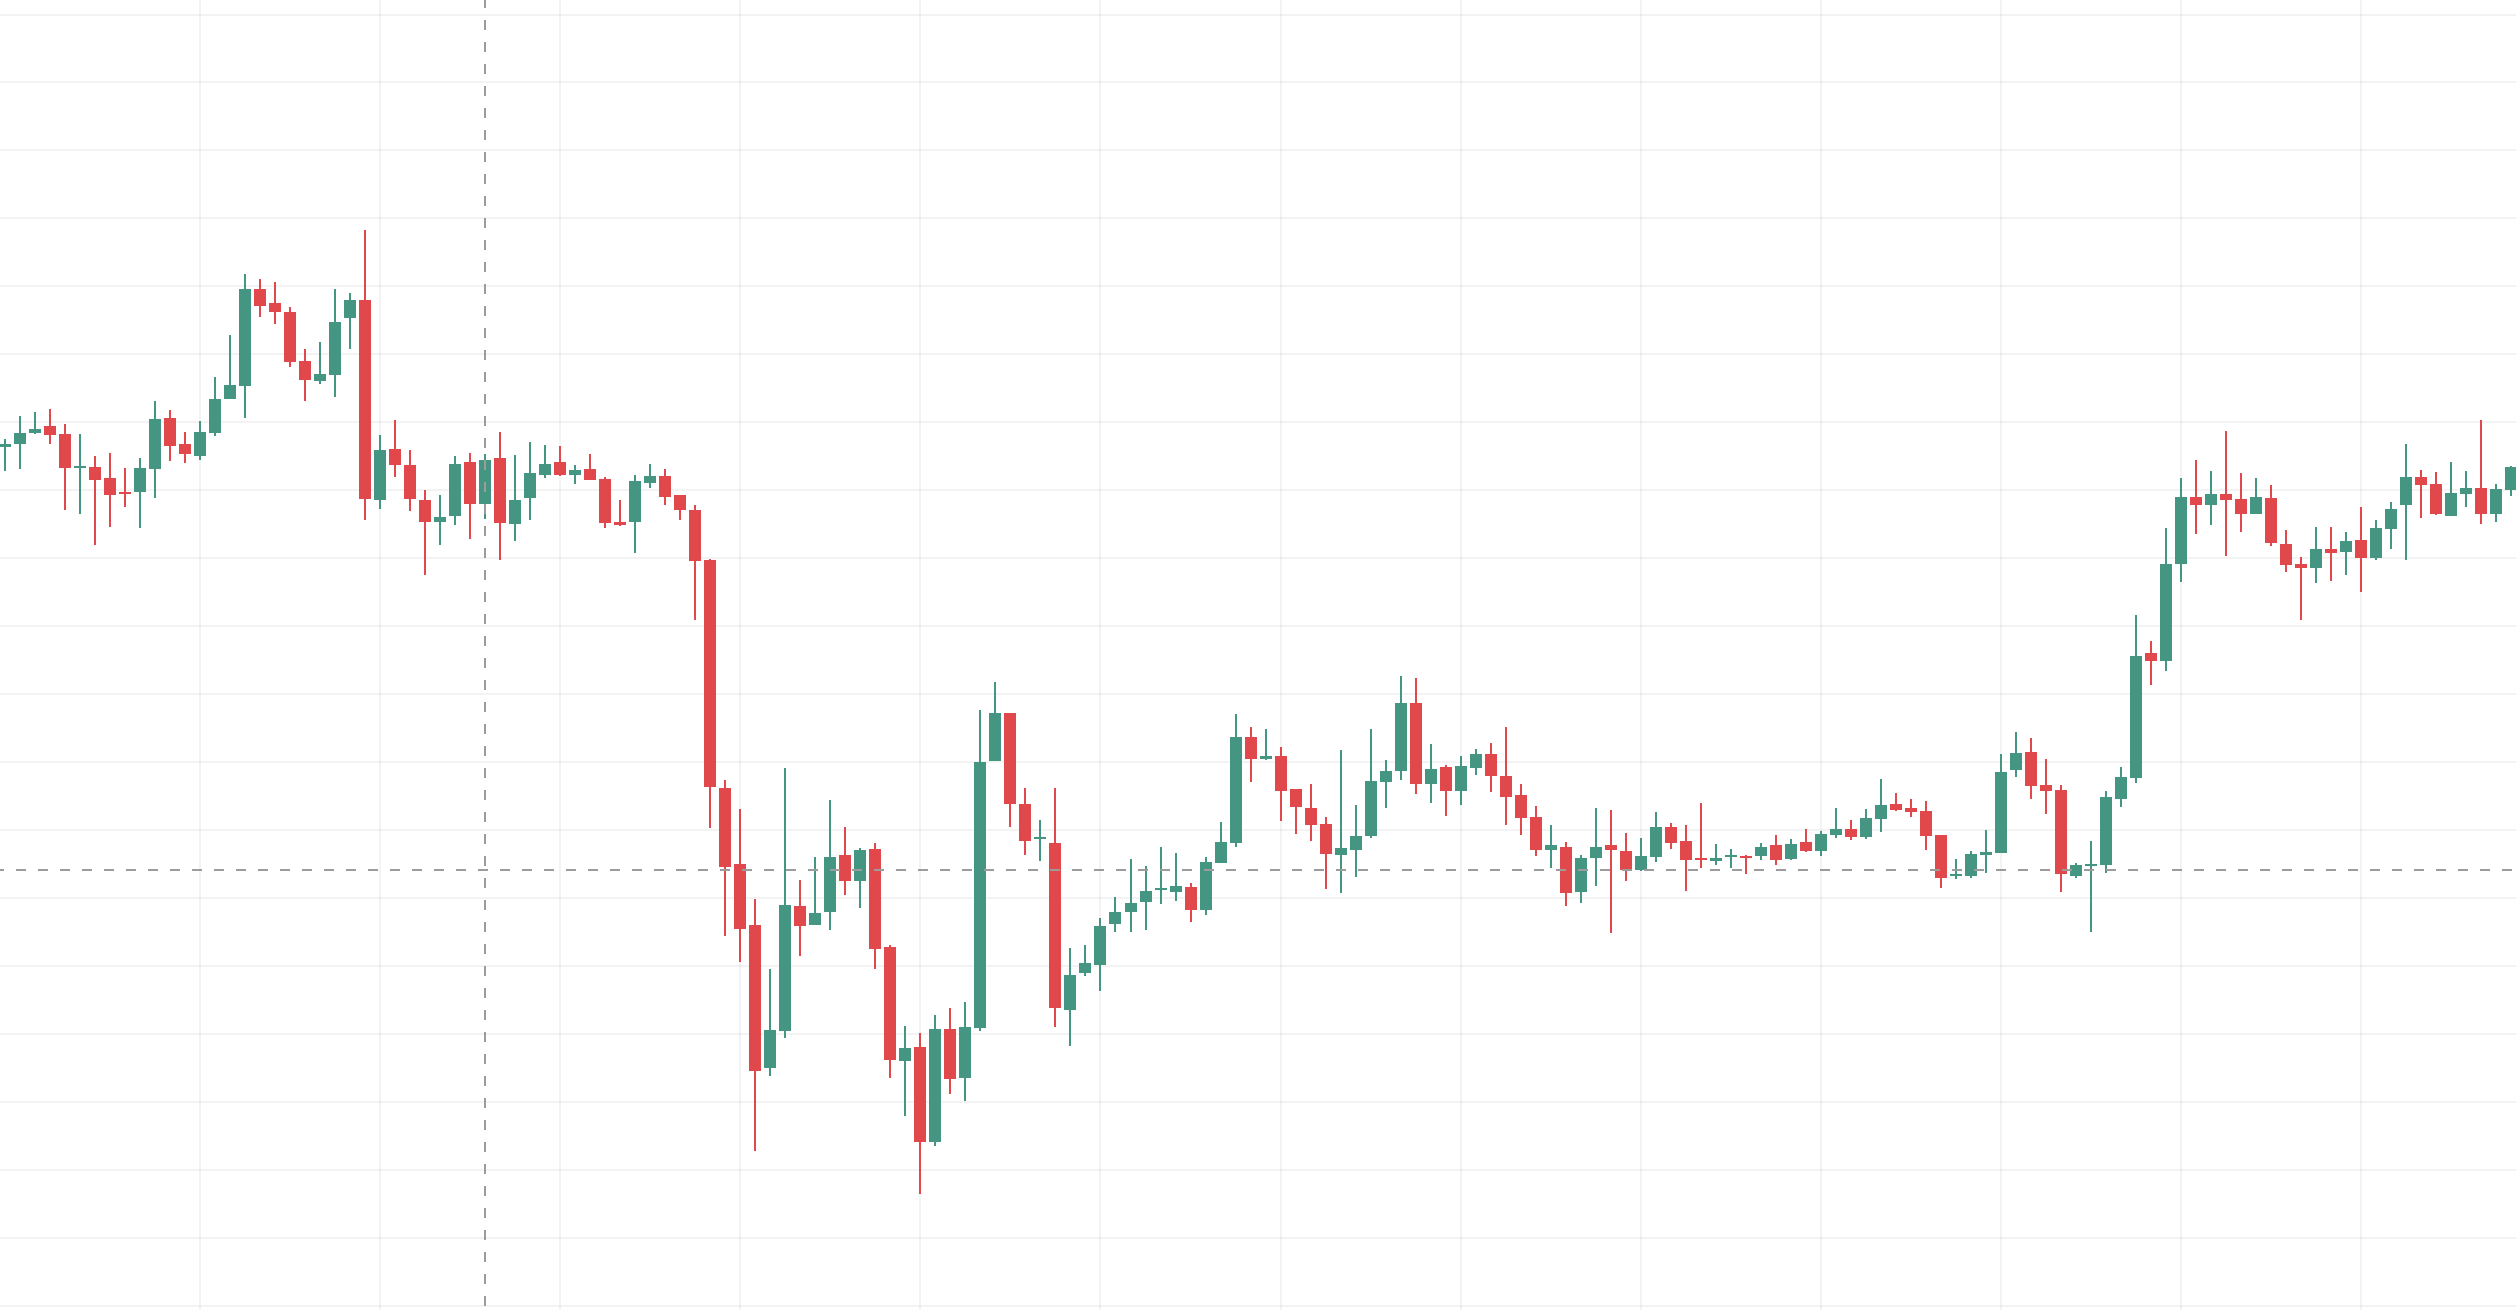V-turn: (594, 307, 862, 1186)
